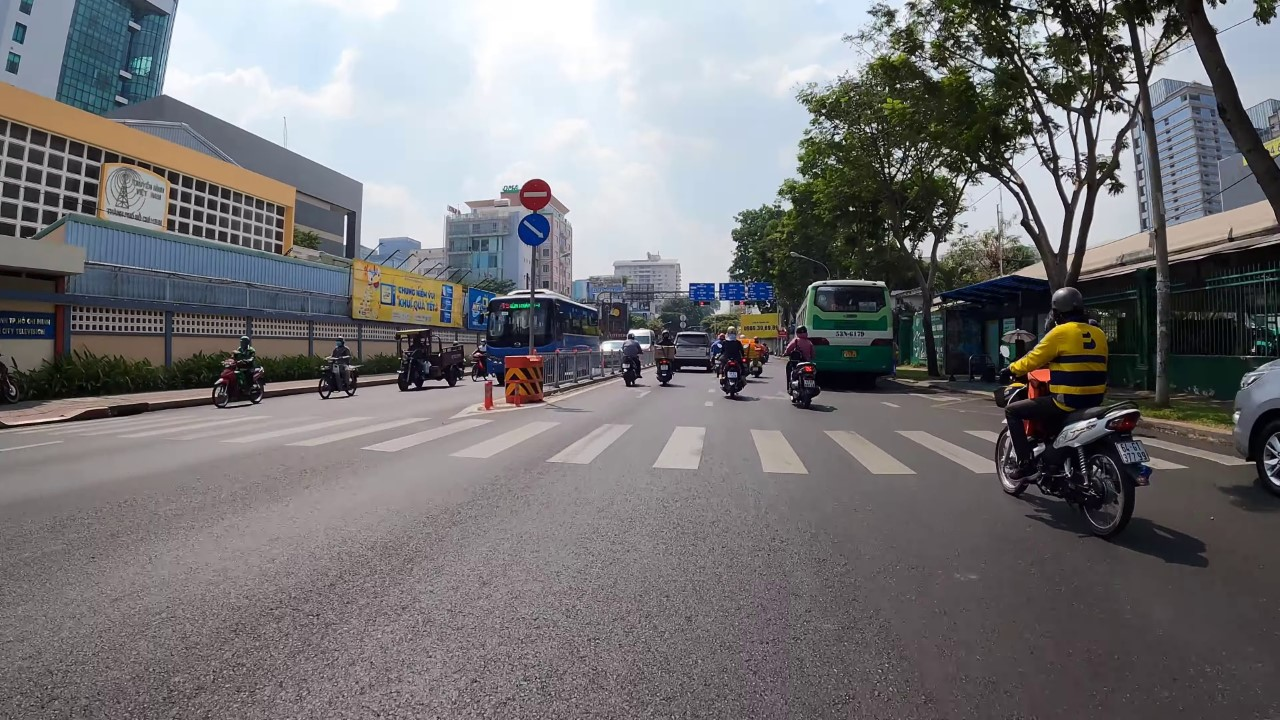cam_nguoc_chieu: (517, 176, 554, 214)
huong_phai_di_vong: (515, 213, 554, 249)
